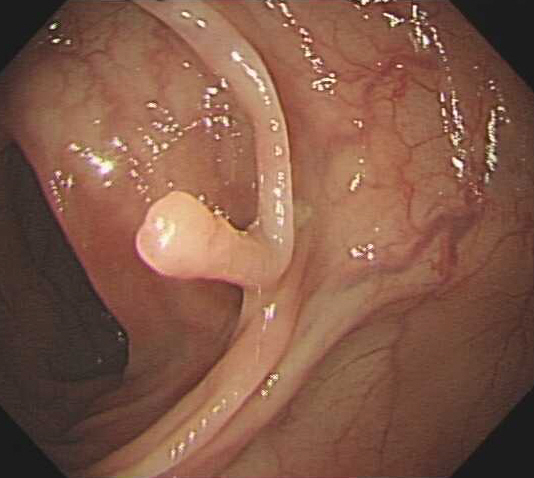adenoma: (134, 187, 261, 290)
